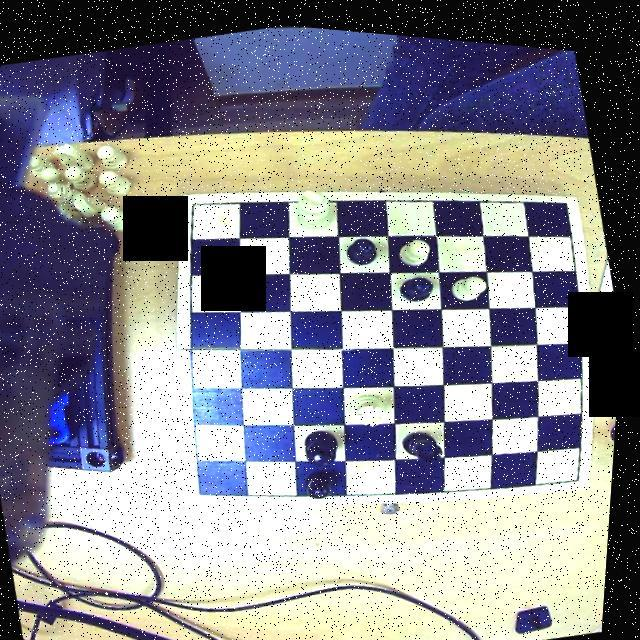chess-table-corners: (192, 471, 225, 502), (179, 188, 210, 218), (548, 180, 582, 206), (570, 451, 598, 479)
